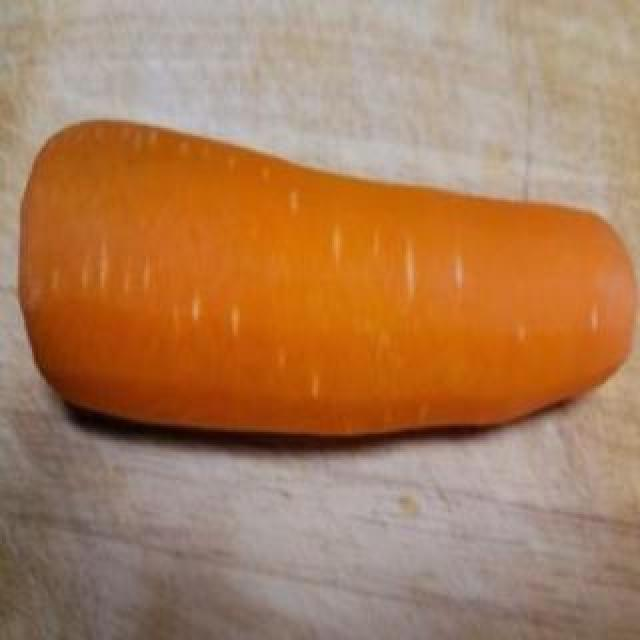Wet: (12, 106, 638, 451)
